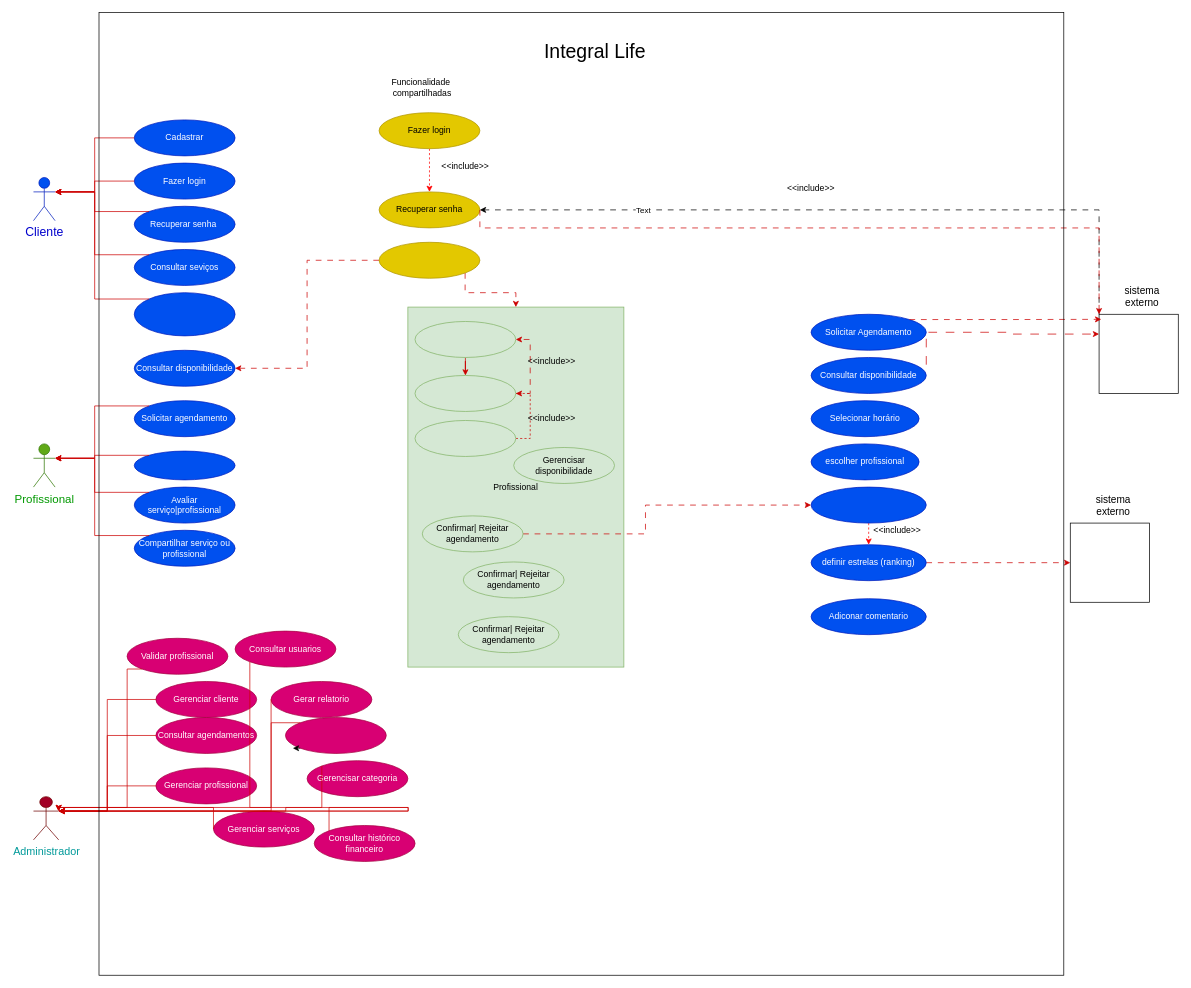
The diagram is 1191 pixels wide and 988 high, and some of its shapes have lost their labels. Here are the shapes that lost their labels. From the top down, the box of each, then its label:
(378, 242, 480, 278): Gerenciar perfil
(134, 292, 235, 336): Selecionar categoria(Medicina |Enfermagem)
(414, 321, 516, 357): Cadastrar profissional
(1098, 314, 1178, 393): whatsapp ✉️Email 📝Sms
(414, 375, 516, 411): Informar Crm | Coren
(414, 420, 516, 456): Enviar Documentos
(134, 450, 235, 480): Consultar agendamento
(810, 486, 926, 523): Avaliar serviço |profissiona
(1070, 522, 1149, 602): Processar pagamento 💳
(285, 717, 386, 753): Consulta Movimentação financeira
